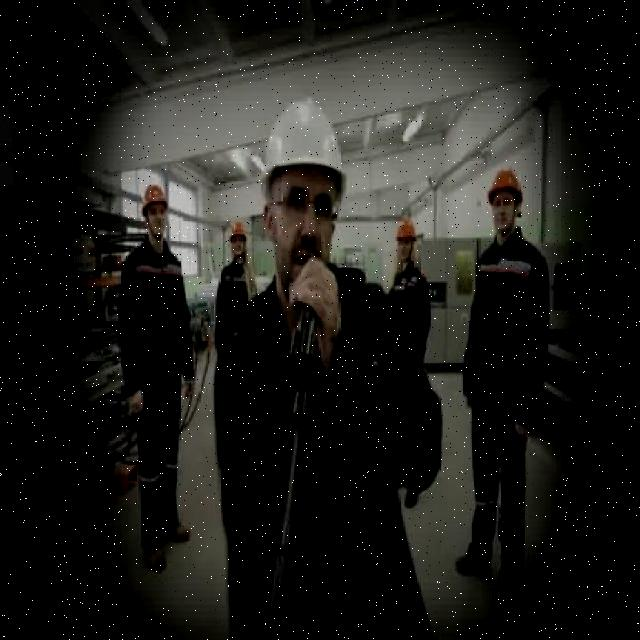Helmet: (260, 96, 348, 204), (486, 168, 524, 204), (141, 184, 170, 213), (393, 216, 418, 242), (228, 222, 248, 236)
Mask: (461, 230, 552, 606), (115, 235, 197, 551), (386, 258, 436, 364), (210, 259, 258, 359)
